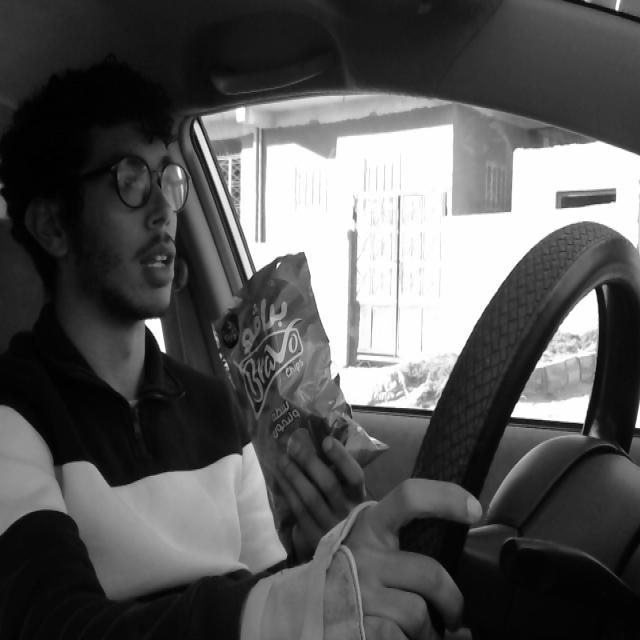eating: (209, 247, 391, 541)
